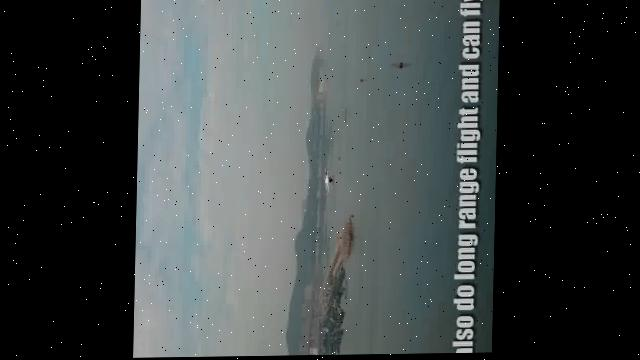drone: (320, 169, 335, 197)
